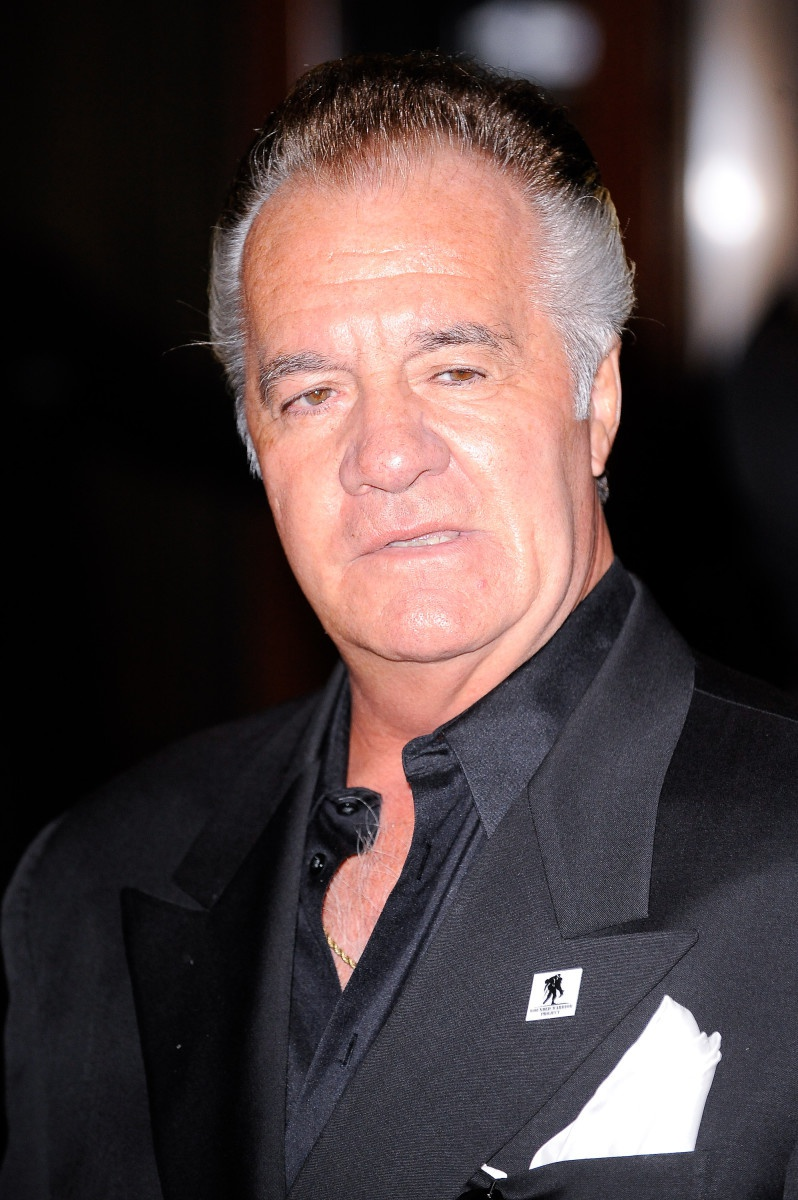bad: (204, 247, 589, 632), (297, 846, 333, 882)
